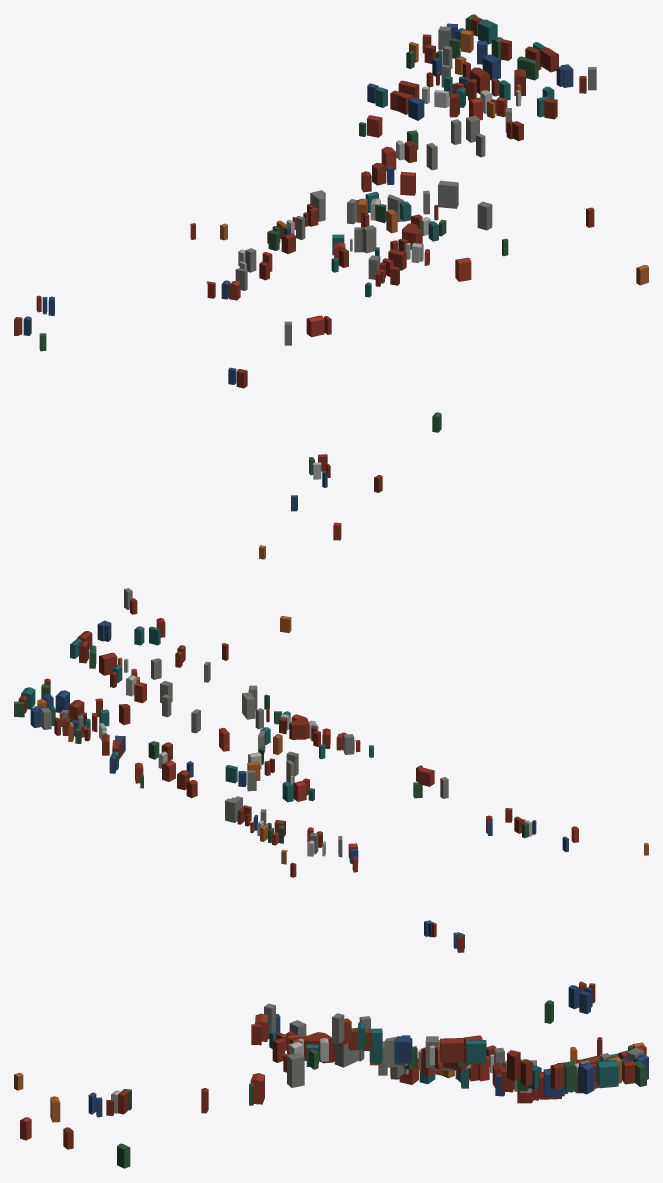
The model's file is near-16-54733-29743.d72f18cf.glb.
3 renders of one model, top to bottom at view 1: azimuth 30°, elevation 25°; view 2: azimuth 150°, elevation 25°; view 3: azimuth 270°, elevation 25°, orthographic. The views are drawn at different scales.
Bounding box in the file's own units: 594 × 330 × 539.
